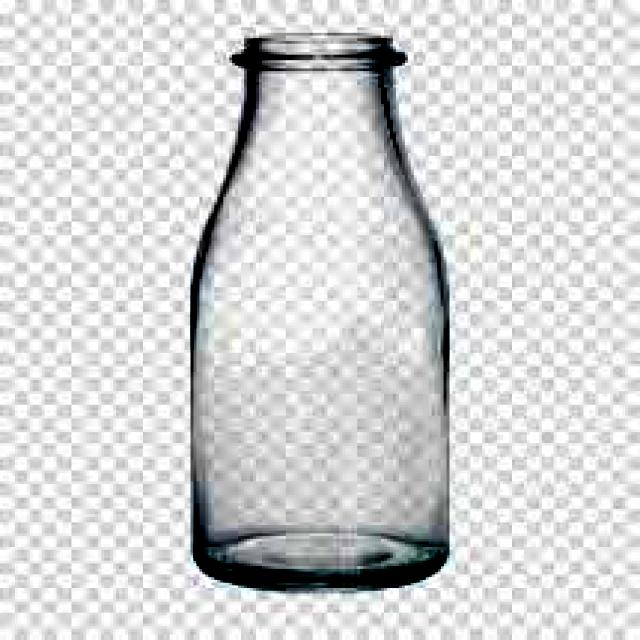Glass: (185, 24, 456, 594)
